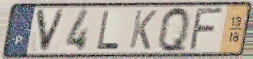4: (63, 7, 90, 54)
F: (187, 7, 227, 53)
K: (127, 8, 159, 52)
L: (95, 10, 121, 51)
Q: (157, 4, 191, 55)
V: (34, 8, 68, 54)
